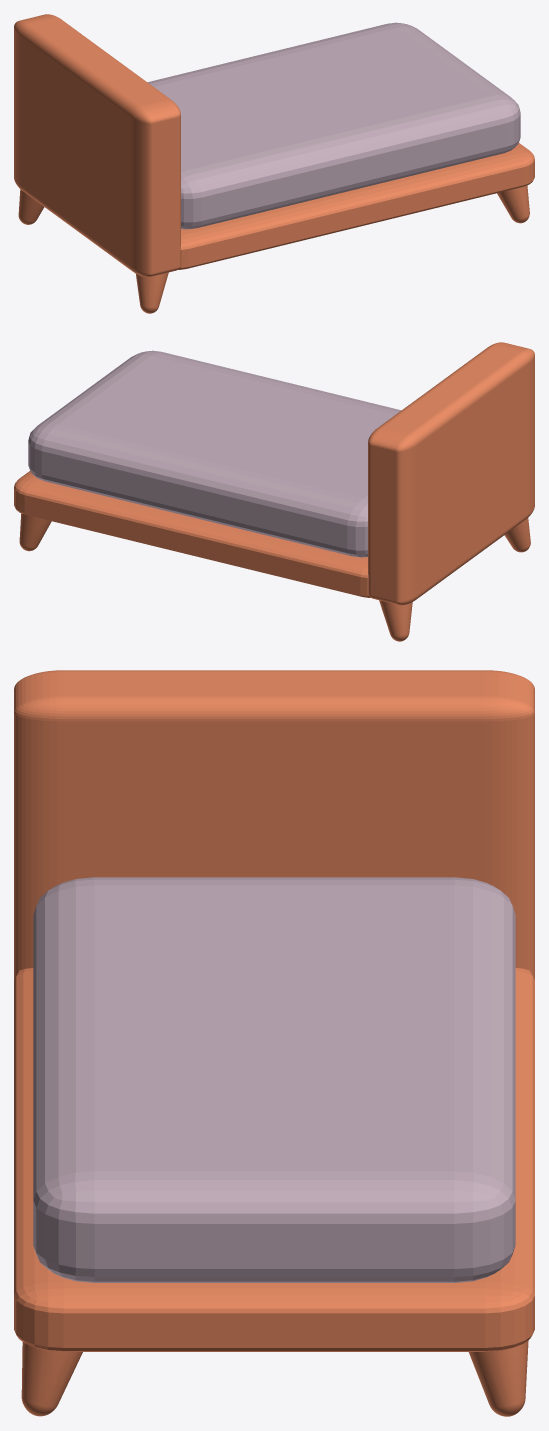
The model's file is BED.fbx.
3 renders of one model, top to bottom at view 1: azimuth 30°, elevation 25°; view 2: azimuth 150°, elevation 25°; view 3: azimuth 270°, elevation 25°, orthographic. The views are drawn at different scales.
Parts seen in each view (by area): view 1: MIZRAN, BED behind, BED under, Cylinder, Cylinder.001, Cylinder.002; view 2: MIZRAN, BED behind, BED under, Cylinder.002, Cylinder.003, Cylinder; view 3: MIZRAN, BED behind, BED under, Cylinder.001, Cylinder.003.
Boxes of the visible parts, x1=… form: MIZRAN: x1=147, y1=22, x2=520, y2=229; BED behind: x1=14, y1=14, x2=180, y2=277; BED under: x1=178, y1=143, x2=534, y2=269; Cylinder: x1=136, y1=272, x2=168, y2=313; Cylinder.001: x1=497, y1=185, x2=529, y2=223; Cylinder.002: x1=18, y1=189, x2=44, y2=224; MIZRAN: x1=28, y1=350, x2=401, y2=557; BED behind: x1=368, y1=342, x2=534, y2=605; BED under: x1=14, y1=471, x2=370, y2=597; Cylinder.002: x1=379, y1=600, x2=412, y2=641; Cylinder.003: x1=19, y1=513, x2=51, y2=551; Cylinder: x1=504, y1=518, x2=530, y2=552; MIZRAN: x1=33, y1=877, x2=515, y2=1282; BED behind: x1=14, y1=670, x2=534, y2=979; BED under: x1=14, y1=968, x2=534, y2=1351; Cylinder.001: x1=21, y1=1342, x2=82, y2=1416; Cylinder.003: x1=468, y1=1340, x2=528, y2=1416.
Size of the model in its own units: 683 by 333 by 401.
